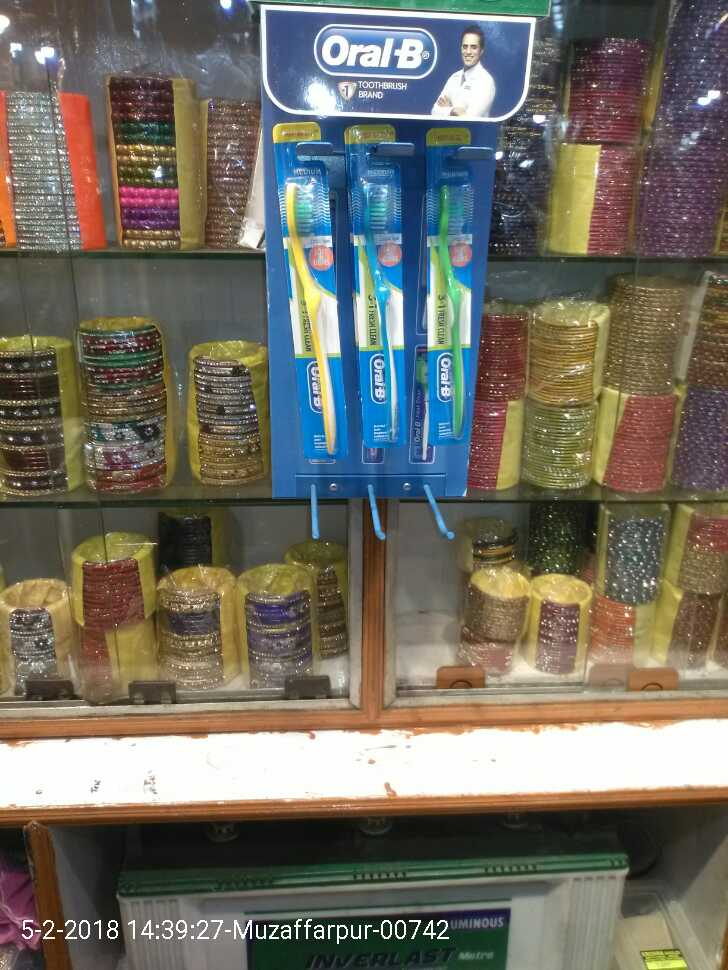oralb: (272, 129, 348, 487), (337, 123, 411, 489), (414, 126, 474, 501)
